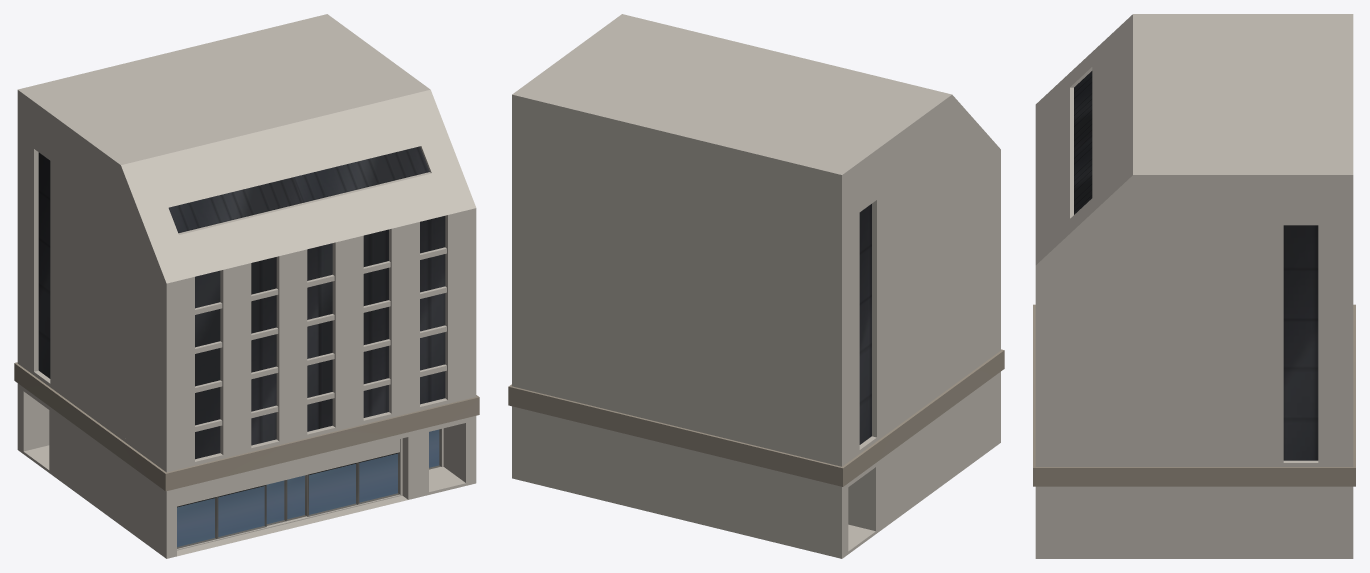
Rendered from Bld_Building_A.fbx.
3 views of the same model, side by side, from view 1: azimuth 30°, elevation 25°; view 2: azimuth 150°, elevation 25°; view 3: azimuth 270°, elevation 25° (orthographic). The views are drawn at different scales.
Parts seen in each view (by area): view 1: Bld_Building_A; view 2: Bld_Building_A; view 3: Bld_Building_A.
Boxes of the visible parts, bbox=[...] form: Bld_Building_A: bbox=[14, 14, 479, 558]; Bld_Building_A: bbox=[508, 14, 1004, 558]; Bld_Building_A: bbox=[1033, 14, 1355, 558].
Size of the model in its own units: 1825 by 2000 by 1525.
